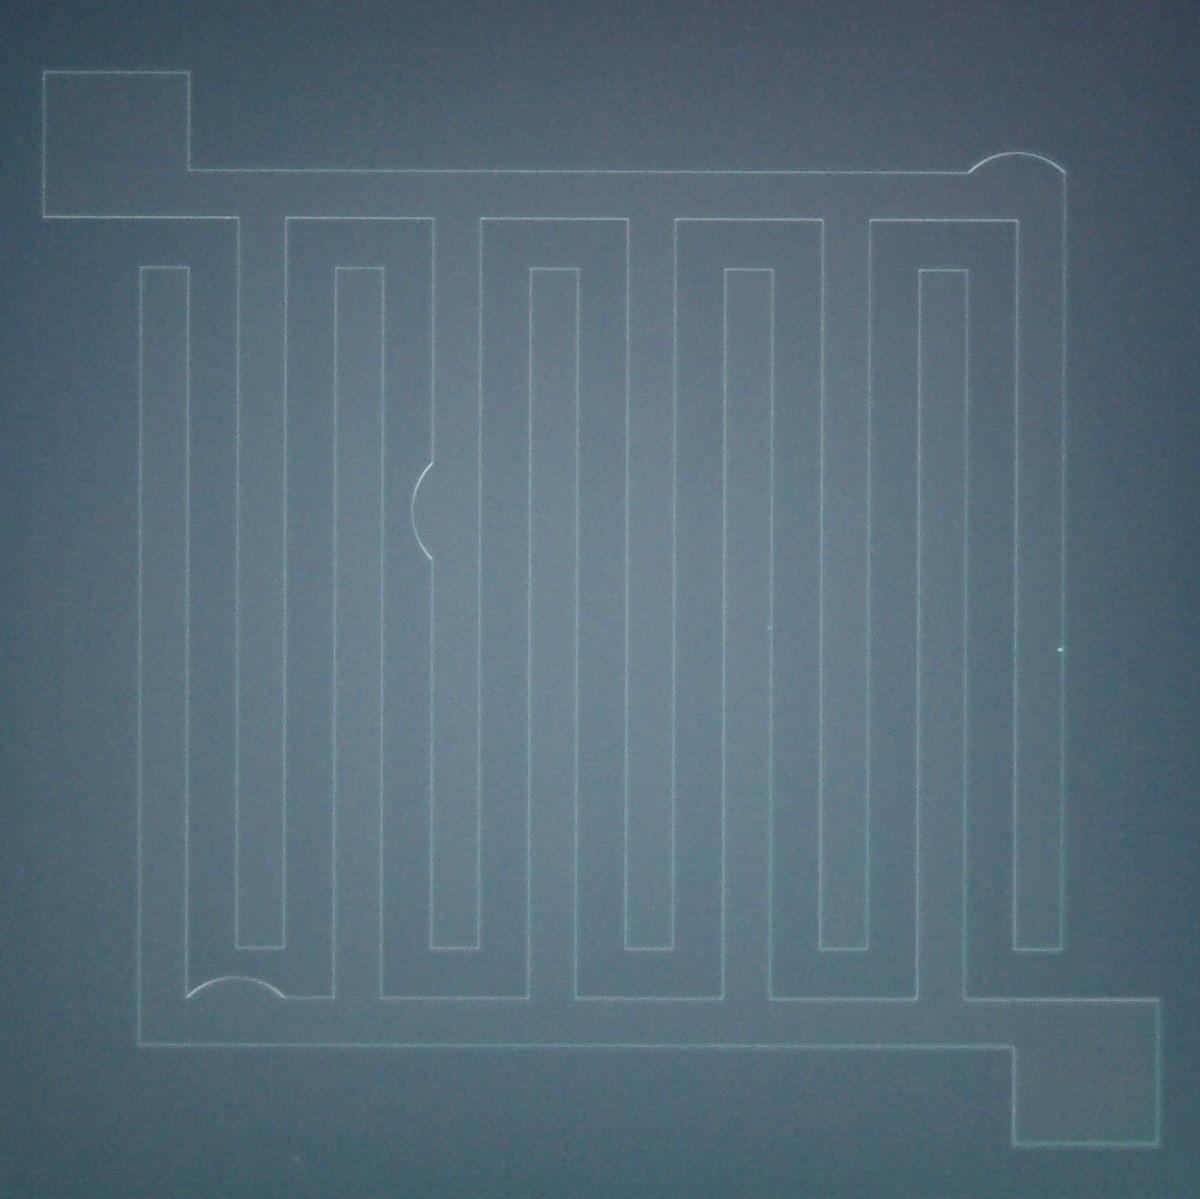project: (944, 130, 1078, 209), (164, 960, 315, 1029), (392, 445, 462, 583)
s_point: (1055, 645, 1066, 655), (763, 623, 774, 634)
